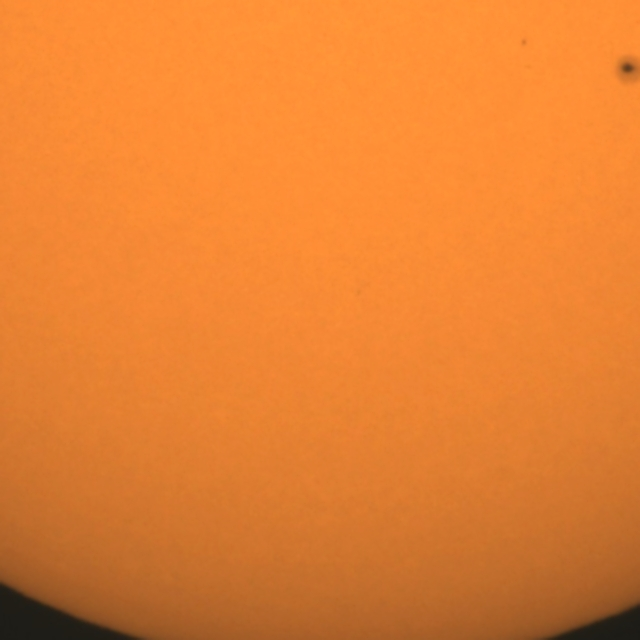sunspot: (616, 57, 638, 80), (518, 36, 530, 49)
